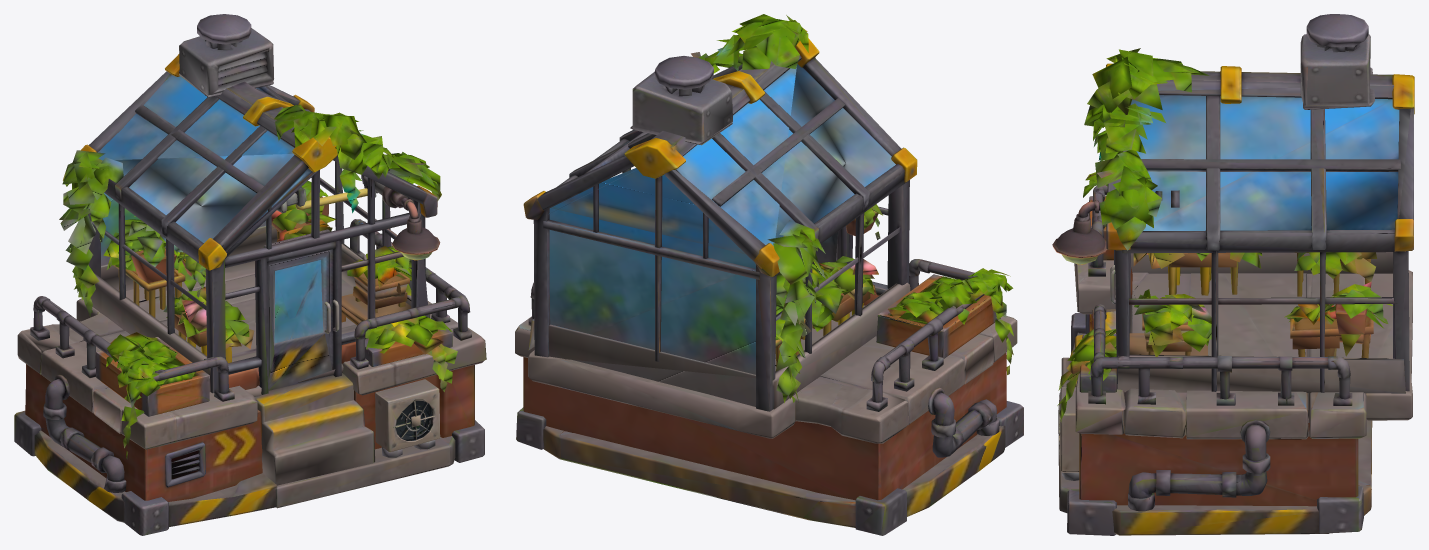
Rendered from rooftop_greenhouse.glb.
3 views of the same model, side by side, from view 1: azimuth 30°, elevation 25°; view 2: azimuth 150°, elevation 25°; view 3: azimuth 270°, elevation 25° (orthographic). The views are drawn at different scales.
Visible parts, largest first — view 1: geometry_0; view 2: geometry_0; view 3: geometry_0.
Boxes of the visible parts, left/top/right/bottom form: geometry_0: left=14, top=14, right=486, bottom=535; geometry_0: left=515, top=14, right=1023, bottom=535; geometry_0: left=1052, top=14, right=1414, bottom=535.
Size of what is drawn, in the model's own units: 1.03 by 1 by 0.7455.
Materials: 1 (1 with a texture image).
